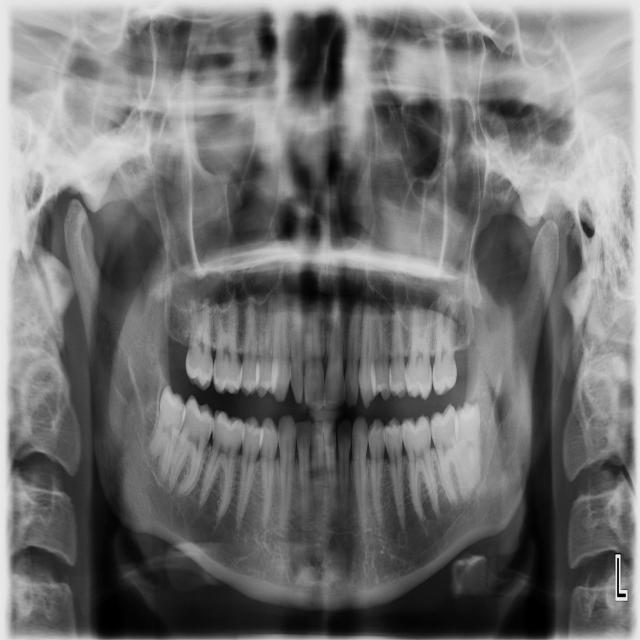mandibula: (64, 198, 557, 611)
